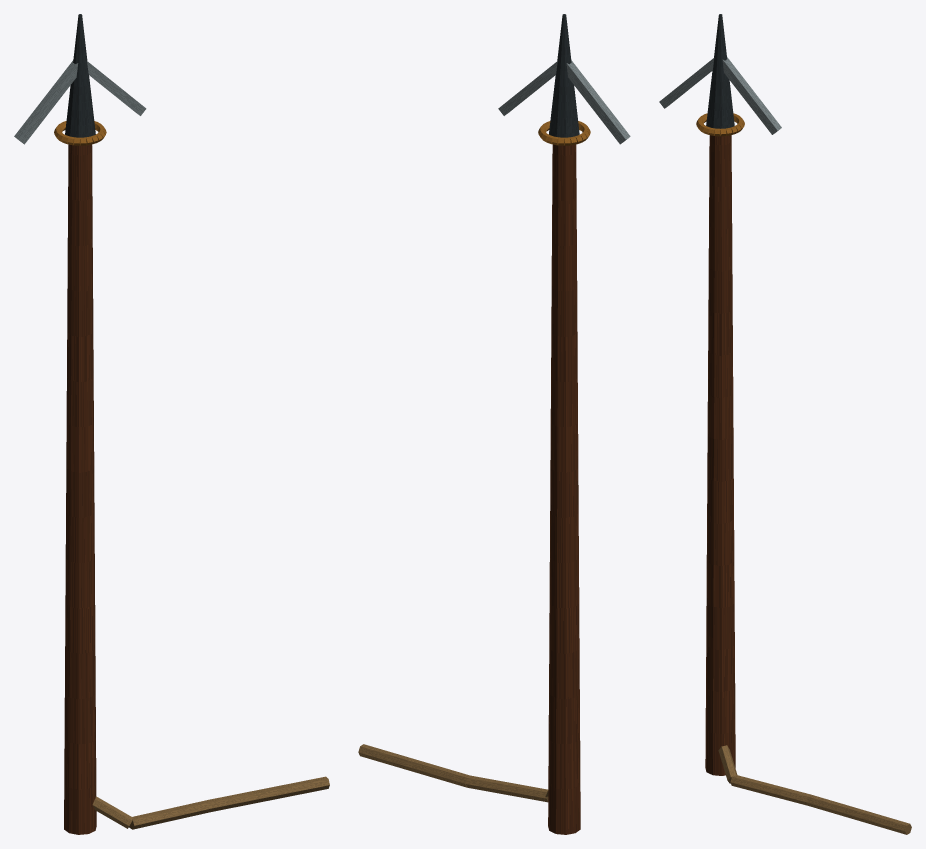
Rendered from SM_harpoon.gltf.
3 renders of one model, left to right at view 1: azimuth 30°, elevation 25°; view 2: azimuth 150°, elevation 25°; view 3: azimuth 330°, elevation 25°, orthographic. The views are drawn at different scales.
Visible parts, largest first — view 1: root; view 2: root; view 3: root.
Part boxes in pixels (<box>): root: <box>14,14,329,834</box>; root: <box>358,14,630,834</box>; root: <box>659,14,911,834</box>.
Size of the model in its own units: 0.9006 by 2.42 by 0.2078.
5 materials, 5 textured.
